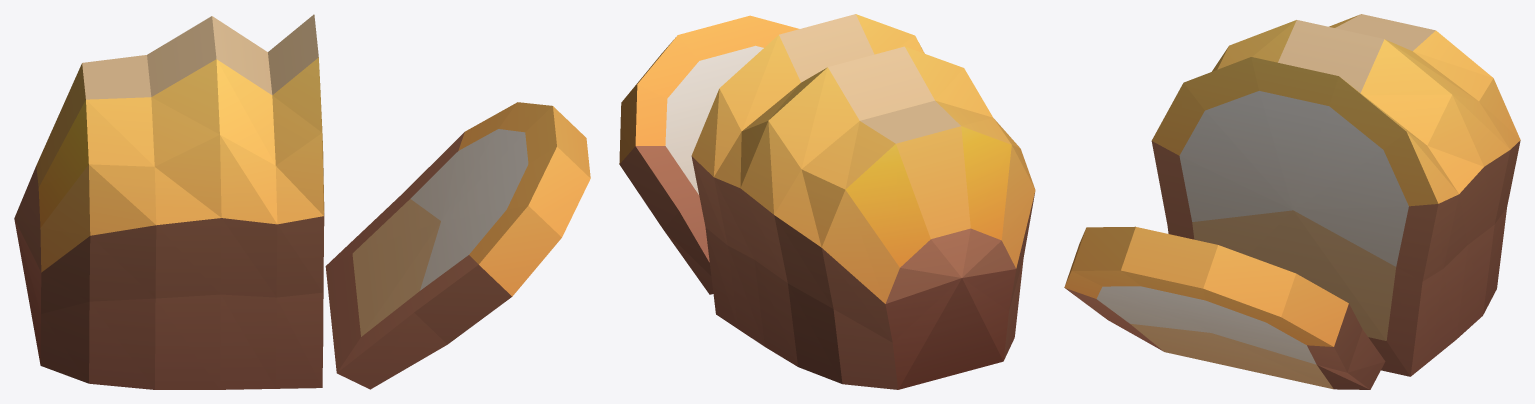
File: source.glb
3 renders of one model, left to right at view 1: azimuth 30°, elevation 25°; view 2: azimuth 150°, elevation 25°; view 3: azimuth 270°, elevation 25°, orthographic. The views are drawn at different scales.
Parts seen in each view (by area): view 1: model; view 2: model; view 3: model.
Boxes of the visible parts, x1=… form: model: x1=14, y1=14, x2=590, y2=389; model: x1=619, y1=14, x2=1035, y2=389; model: x1=1064, y1=14, x2=1520, y2=389.
Size of the model in its own units: 0.5914 by 0.35 by 0.508.
1 material, 1 textured.
